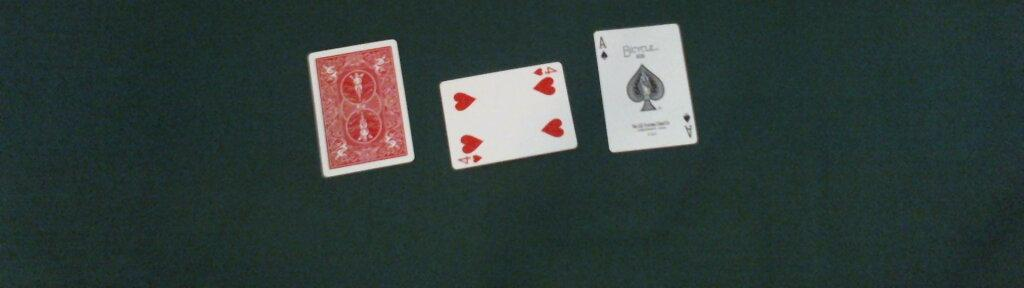ace: (593, 22, 698, 154)
back: (305, 39, 415, 178)
four: (438, 61, 579, 170)
